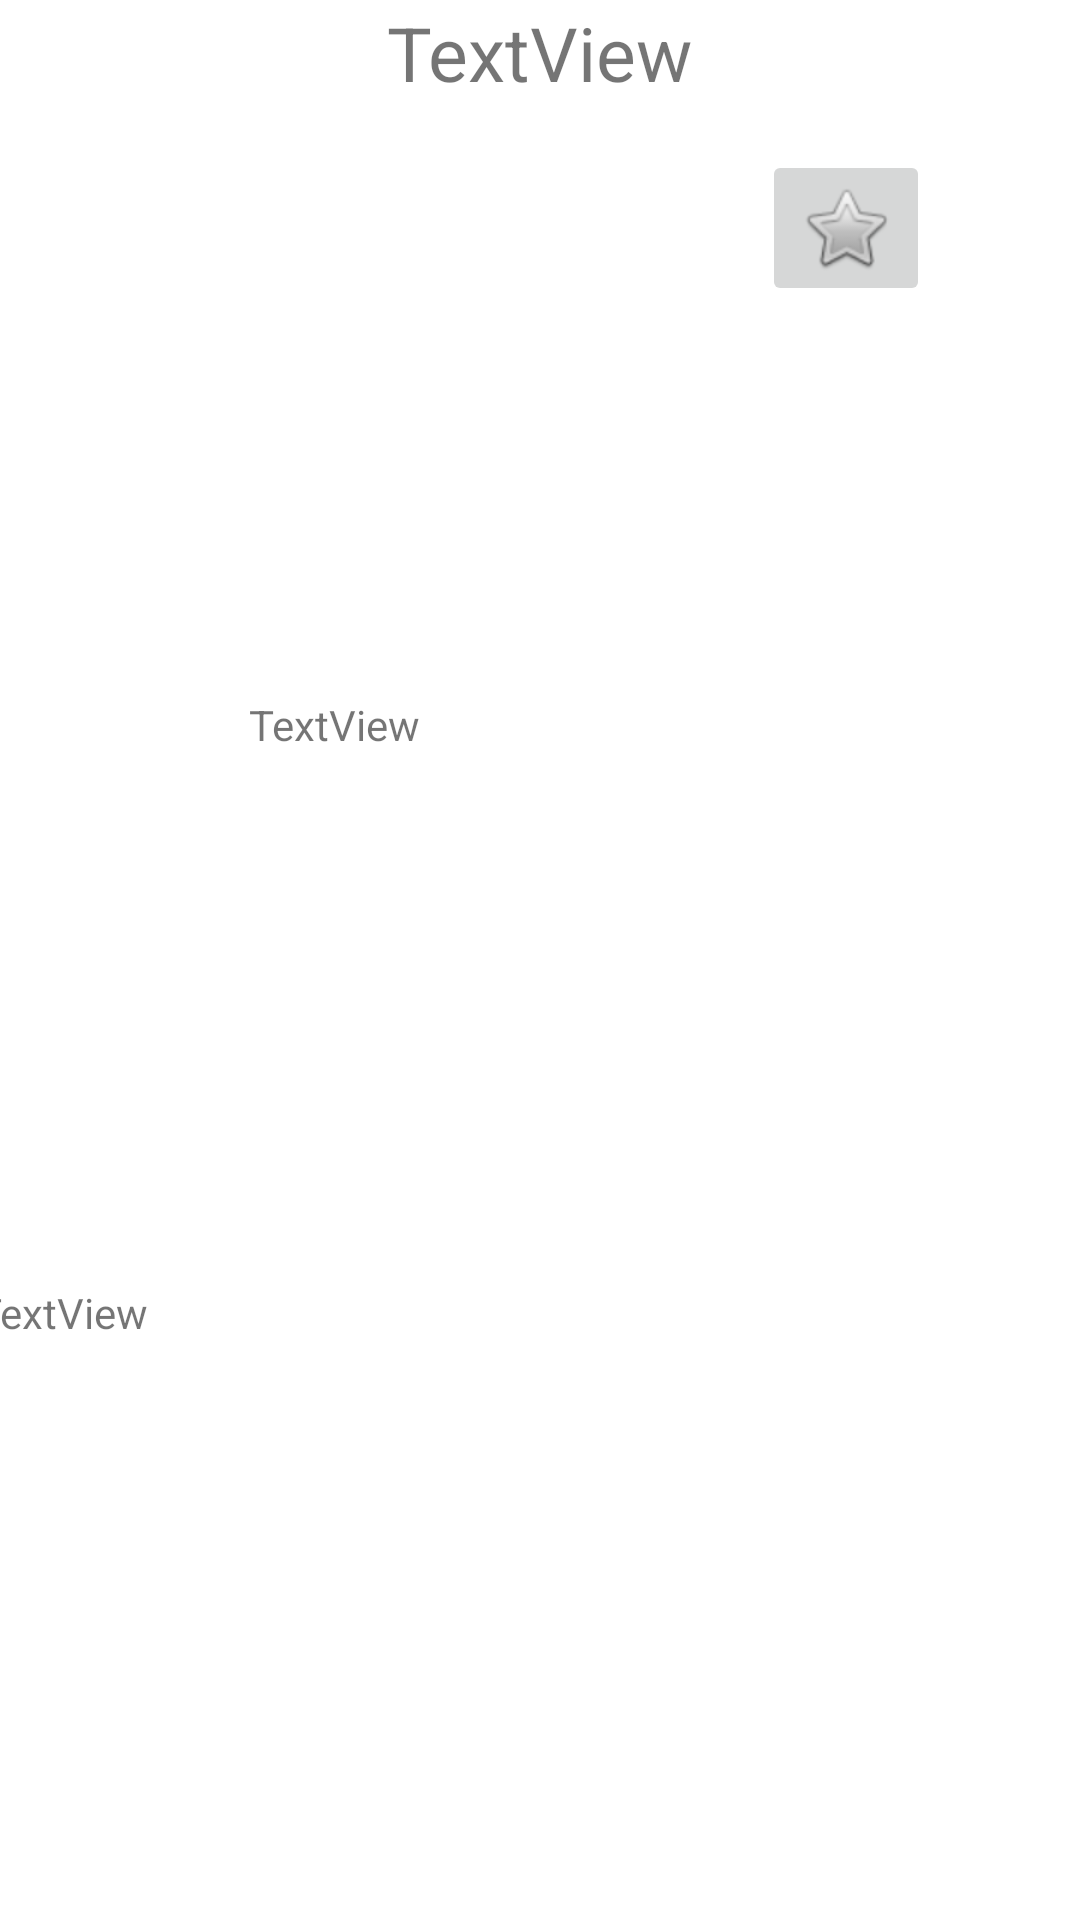

Icon click points for this 1080x1920 phone screenshot, format [x,y]:
star off: [846,228]
